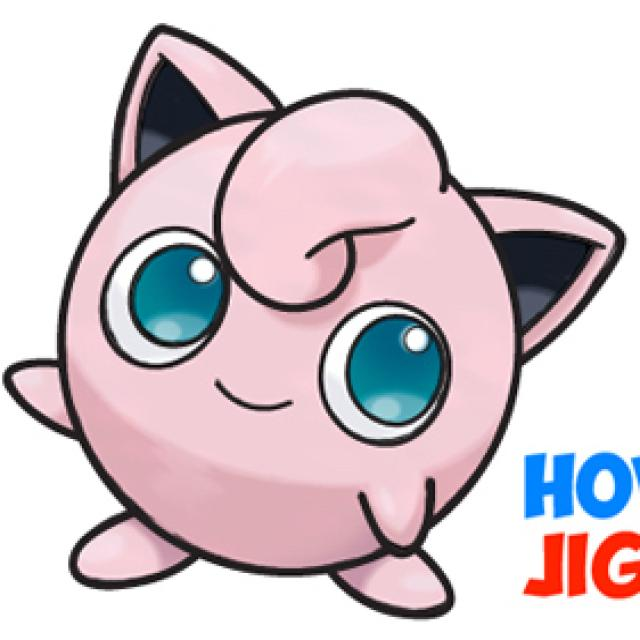Jigglypuff: (72, 30, 536, 582)
